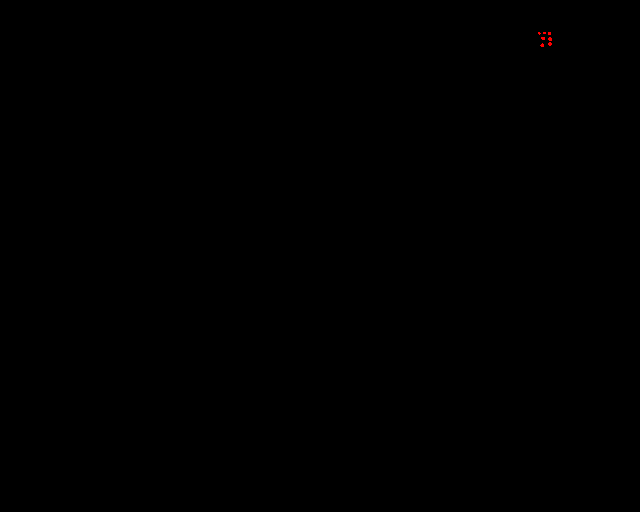Target: (548, 37, 552, 41), (548, 42, 552, 46), (540, 43, 544, 47), (541, 37, 545, 40), (538, 32, 541, 35), (548, 32, 551, 35), (543, 32, 546, 34)
